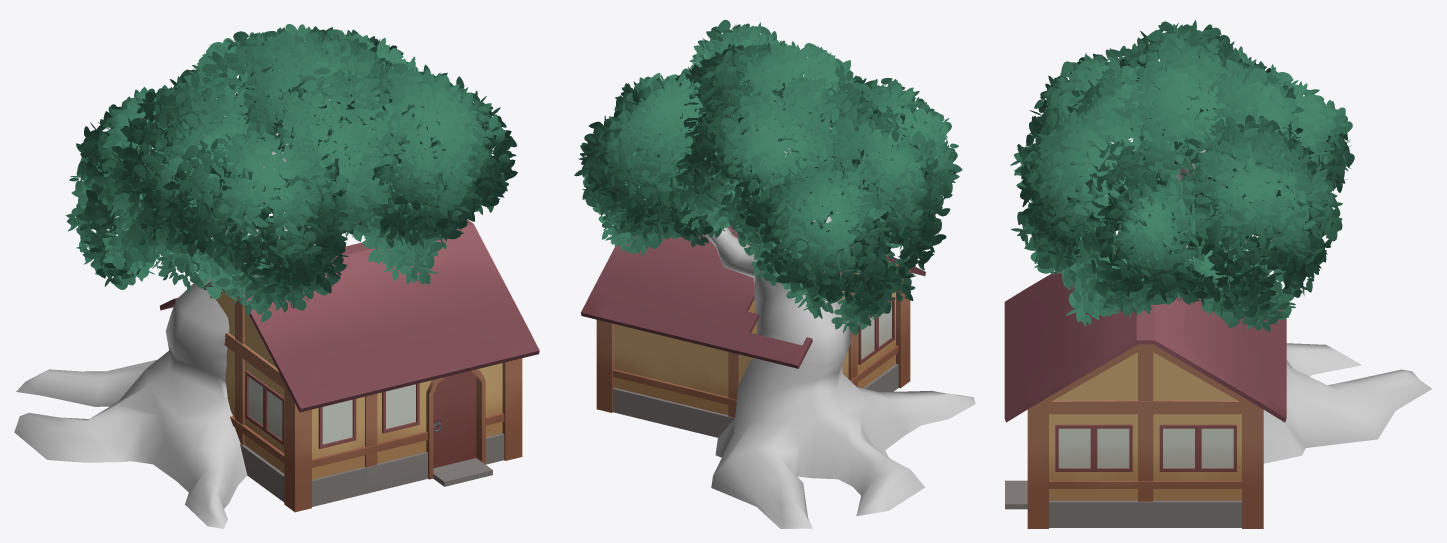
Rendered from house_exterior.fbx.
3 renders of one model, left to right at view 1: azimuth 30°, elevation 25°; view 2: azimuth 150°, elevation 25°; view 3: azimuth 270°, elevation 25°, orthographic. The views are drawn at different scales.
Parts seen in each view (by area): view 1: leaves, house_exterior; view 2: leaves, house_exterior; view 3: leaves, house_exterior.
Boxes of the visible parts, bbox=[...] form: leaves: bbox=[65, 24, 517, 322]; house_exterior: bbox=[14, 124, 539, 528]; leaves: bbox=[574, 19, 962, 335]; house_exterior: bbox=[581, 140, 975, 528]; leaves: bbox=[1010, 20, 1354, 331]; house_exterior: bbox=[1004, 150, 1431, 528].
Size of the model in its own units: 2090 by 2048 by 1900.
